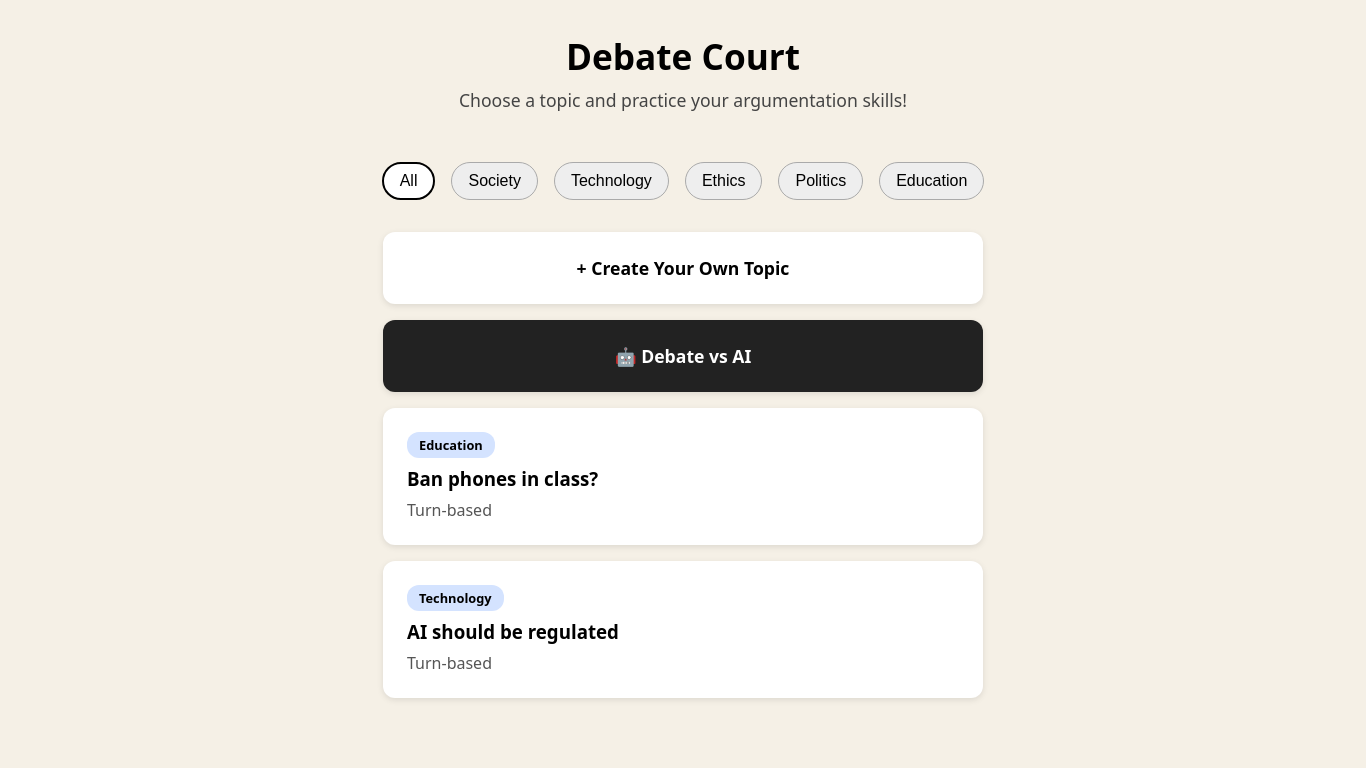
it: TopicsPage › shows create-topic error message on API failure
The image size is (1366, 768).
expect the heading "Ban phones in class?" is shown: met, box [407,466,598,491]
Click the text "+ Create Your Own Topic".
click(683, 268)  # box [383,232,983,304]
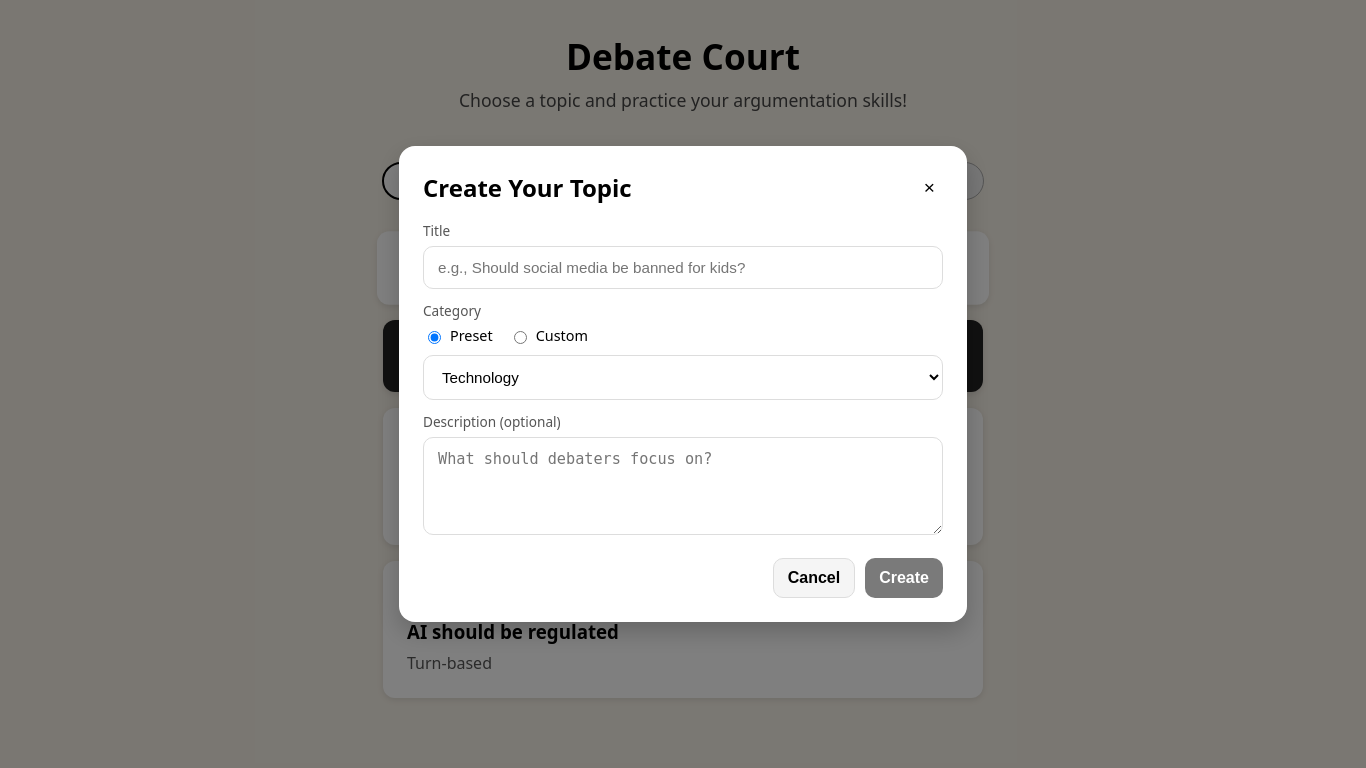
Type "Custom title" into the field with placeholder "e.g., Should social media be banned for kids?".
click(683, 268); type("Custom title")  # box [423,246,943,289]
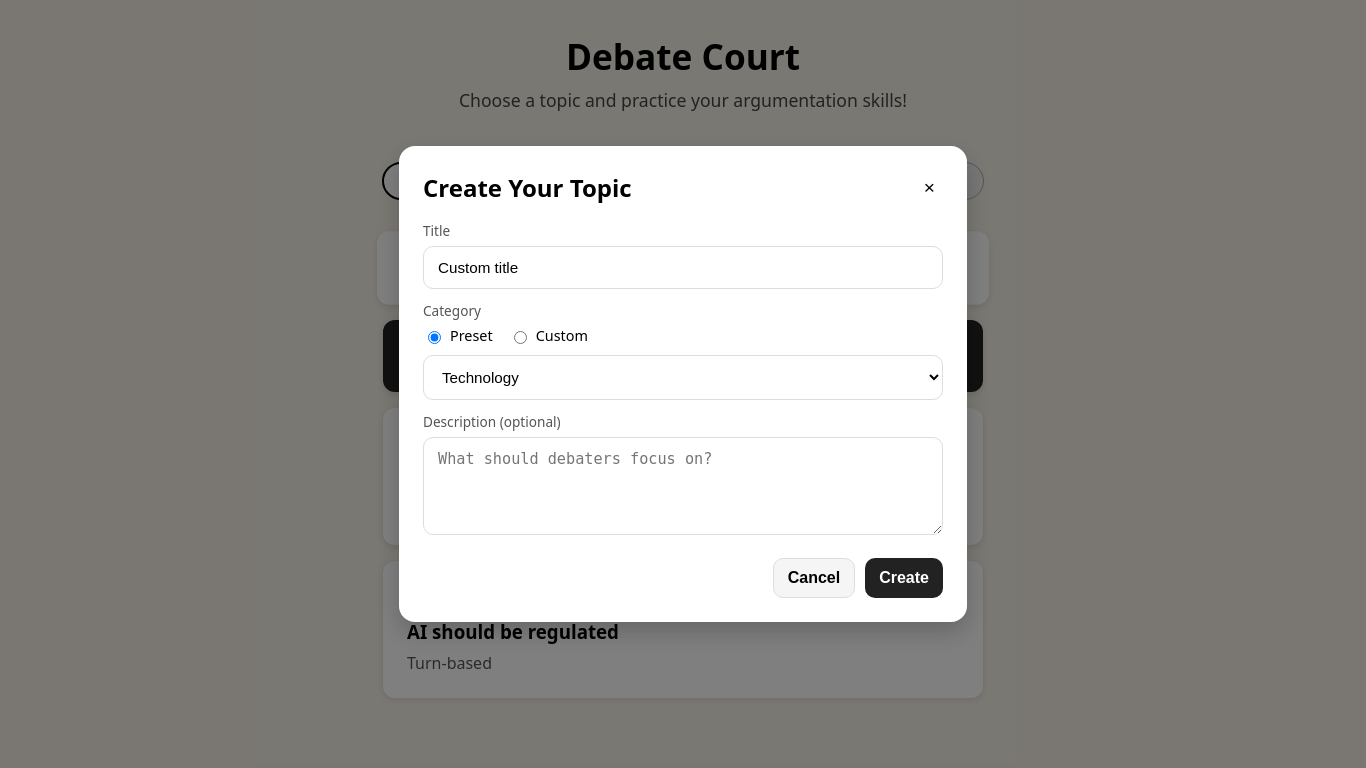
Click the button "Create".
click(904, 578)  # box [865,558,943,598]
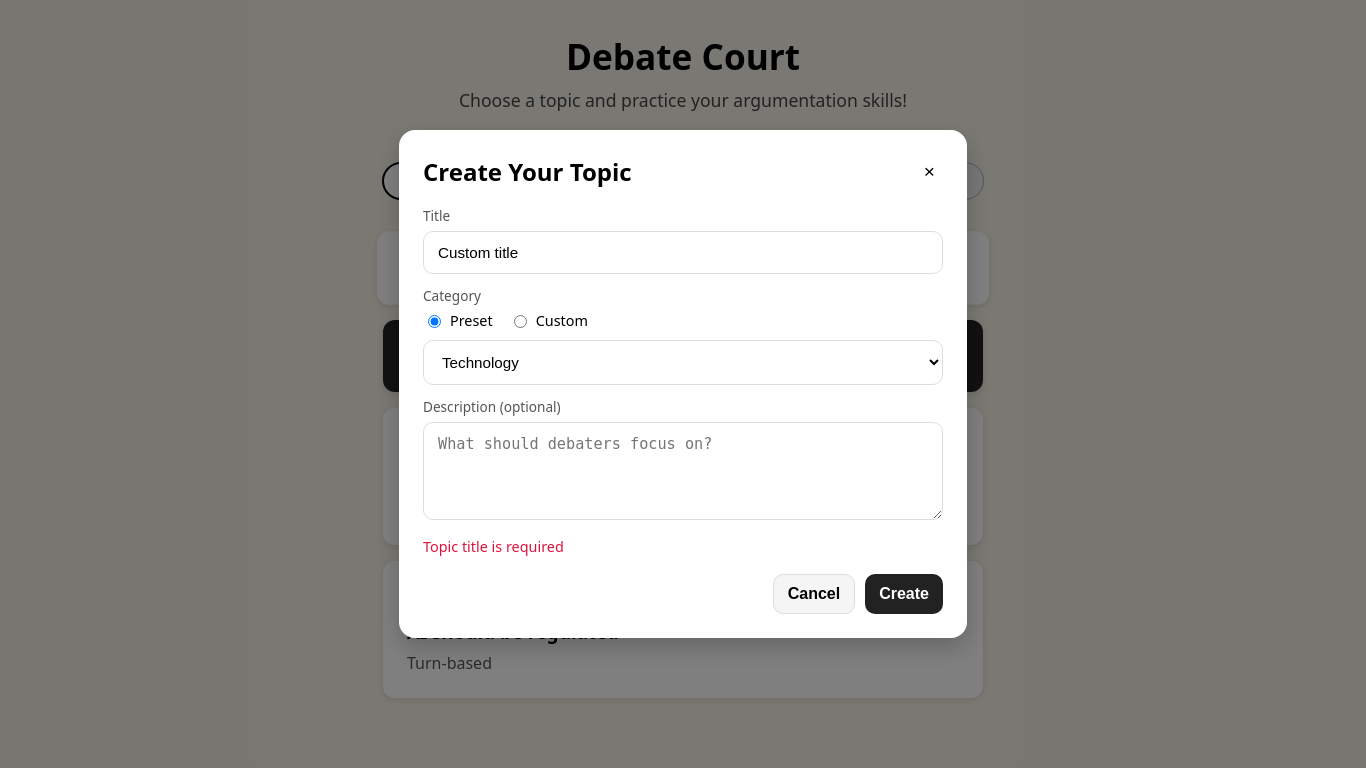
expect the text "Topic title is required" is shown: met, box [423,537,564,556]
